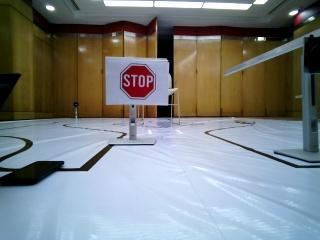stop: (108, 59, 162, 102)
